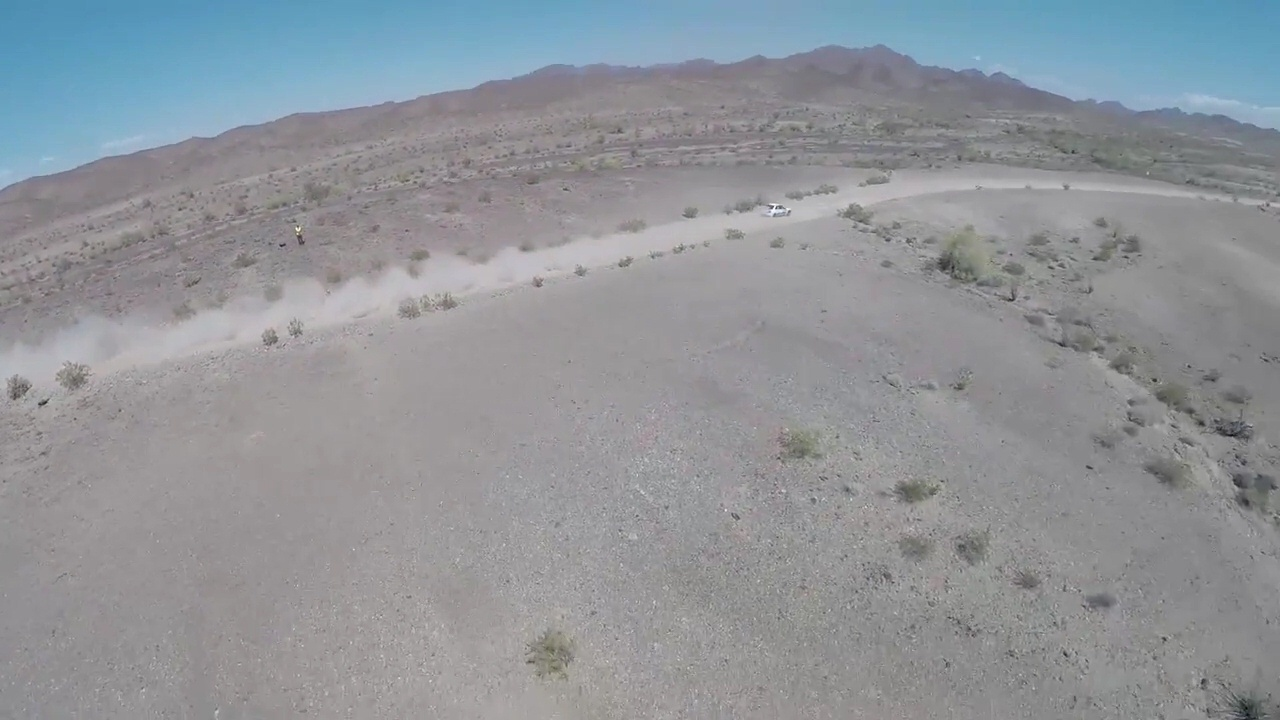araba: (763, 199, 791, 217)
